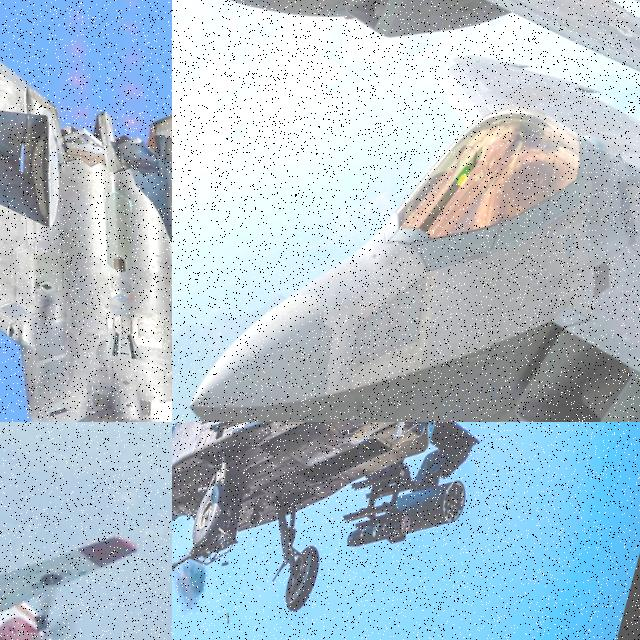Apache: (172, 422, 640, 640)
F22: (183, 0, 640, 422), (0, 0, 172, 422), (200, 0, 640, 112)
KT-1: (0, 422, 155, 640), (0, 542, 172, 640)
